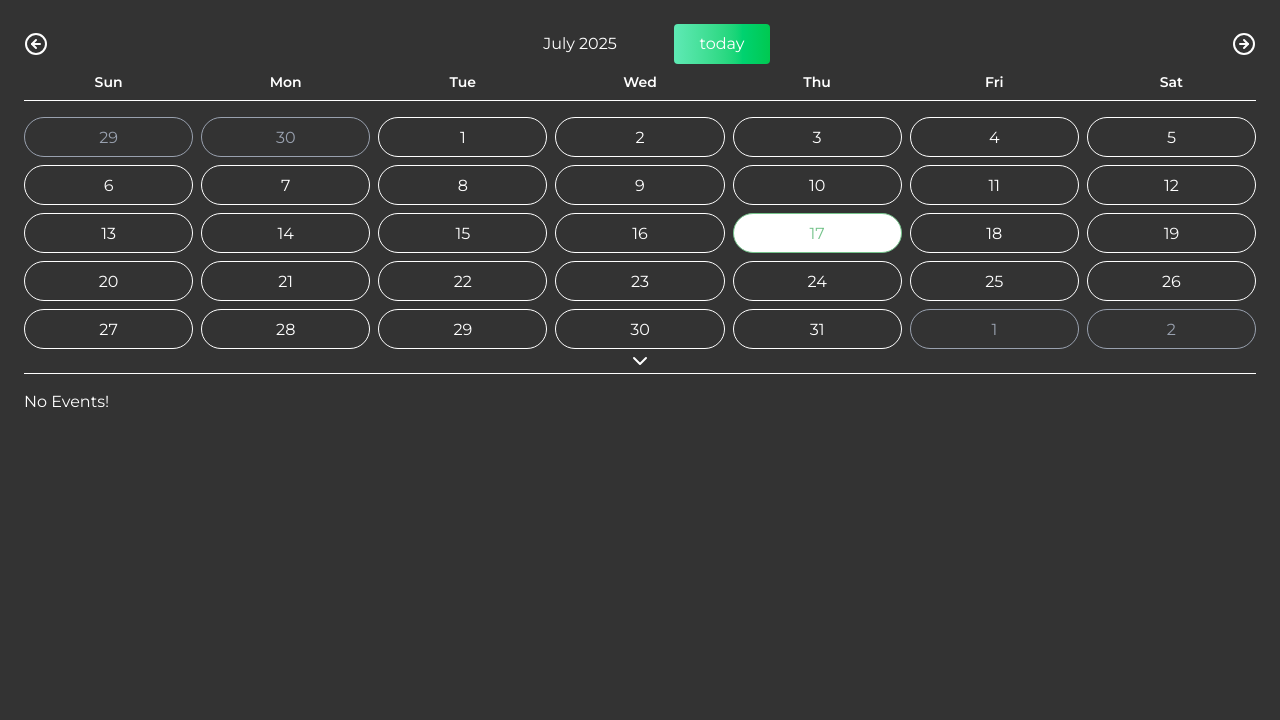
it: Calendar Page › Date Navigation › navigates to the next month
Check: the text "July 2025" is shown, box [543,34,617,53]
Step 1. Click the button named "next month" → (1244, 44), box [1232,24,1256,64]
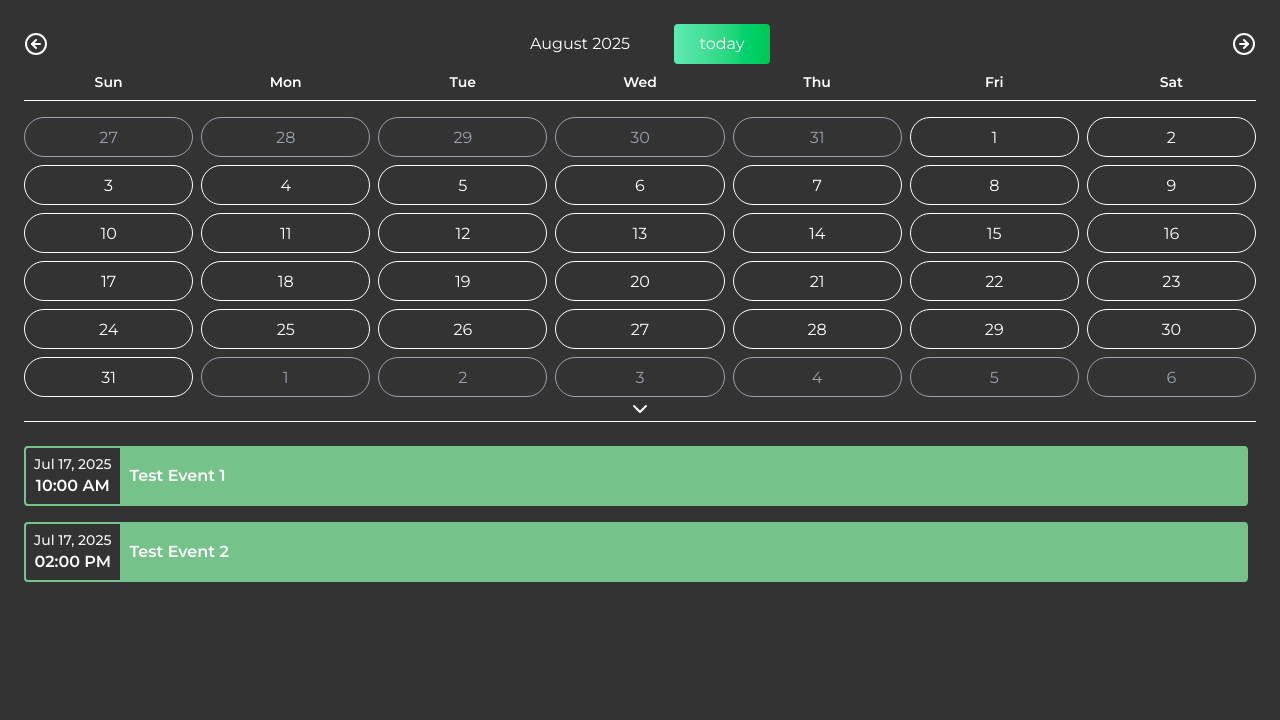
Check: the text "August 2025" is shown, box [530,34,630,53]
